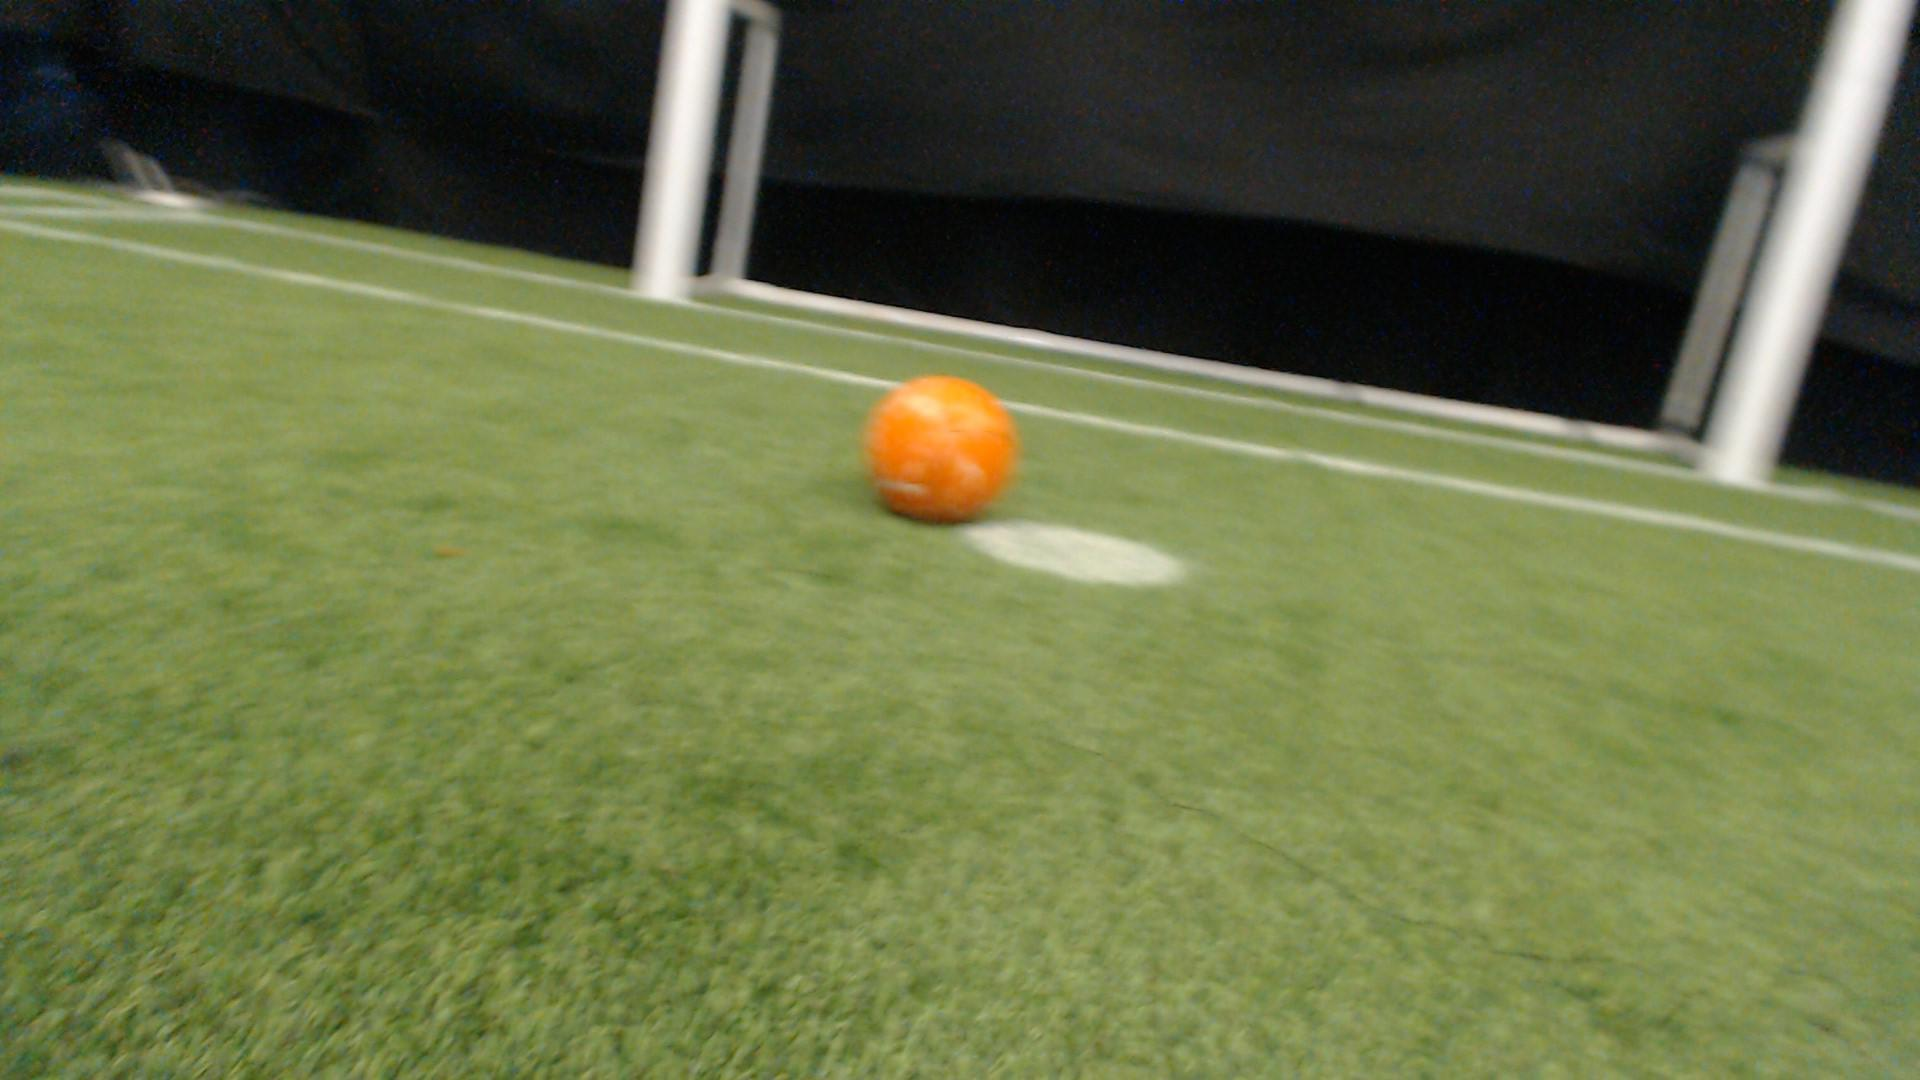bola: (848, 363, 1034, 545)
